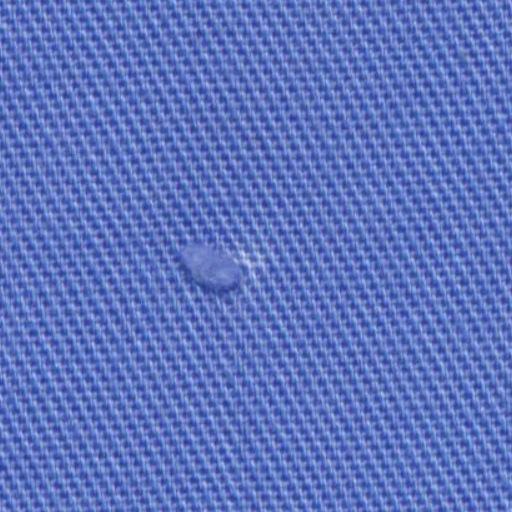MianQiu: (156, 224, 273, 303)
